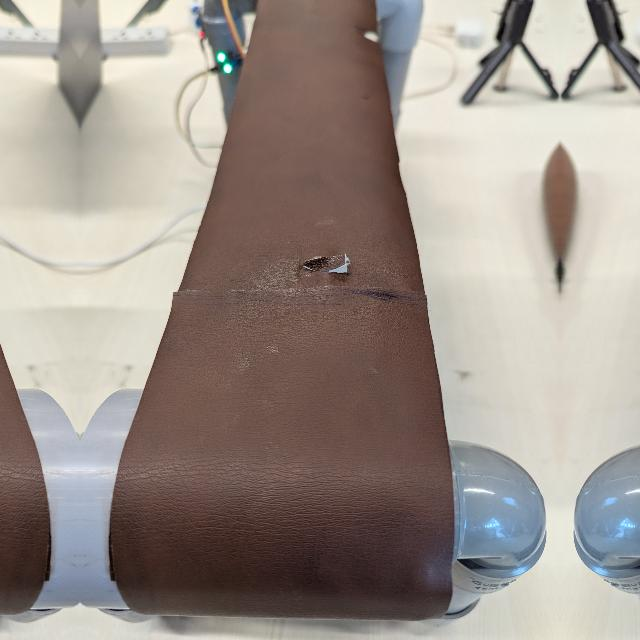joint_damage: (298, 243, 359, 283)
